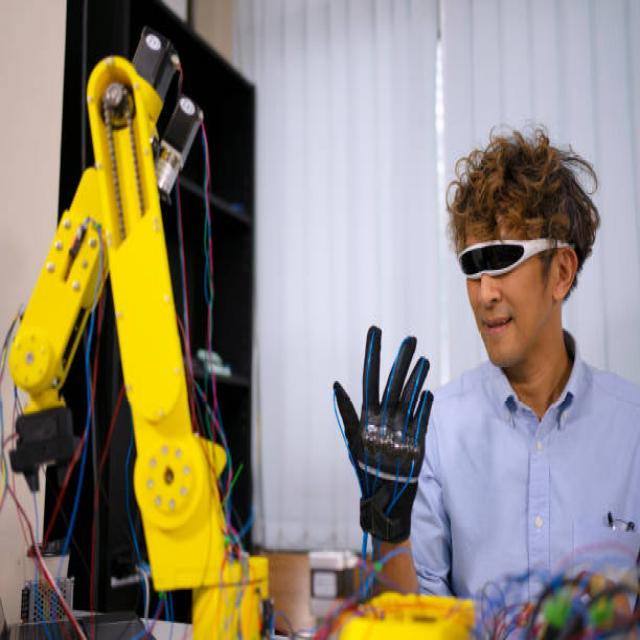Robotic-arm: (5, 30, 273, 640)
